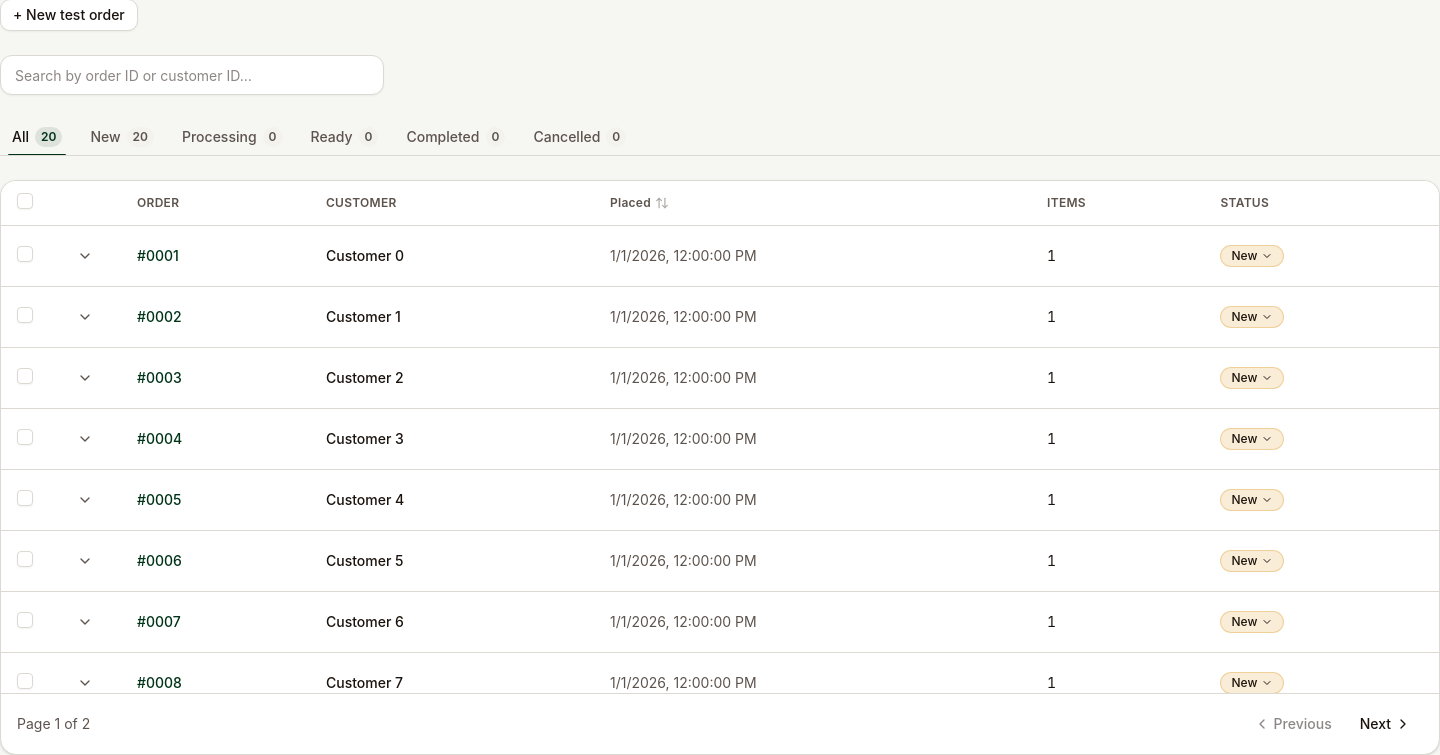
Test: OrdersPage › shows pagination controls only once the filtered set exceeds one page
(page scrolled)
Check: the text "Customer 0" is shown, box top-left (310, 225), bottom-right (594, 286)
Check: the text "Page 1 of 2" is shown, box top-left (17, 714), bottom-right (90, 734)
Click the button with aria-label "Go to next page".
click(1385, 724)  # box top-left (1348, 706), bottom-right (1423, 742)
(page scrolled)
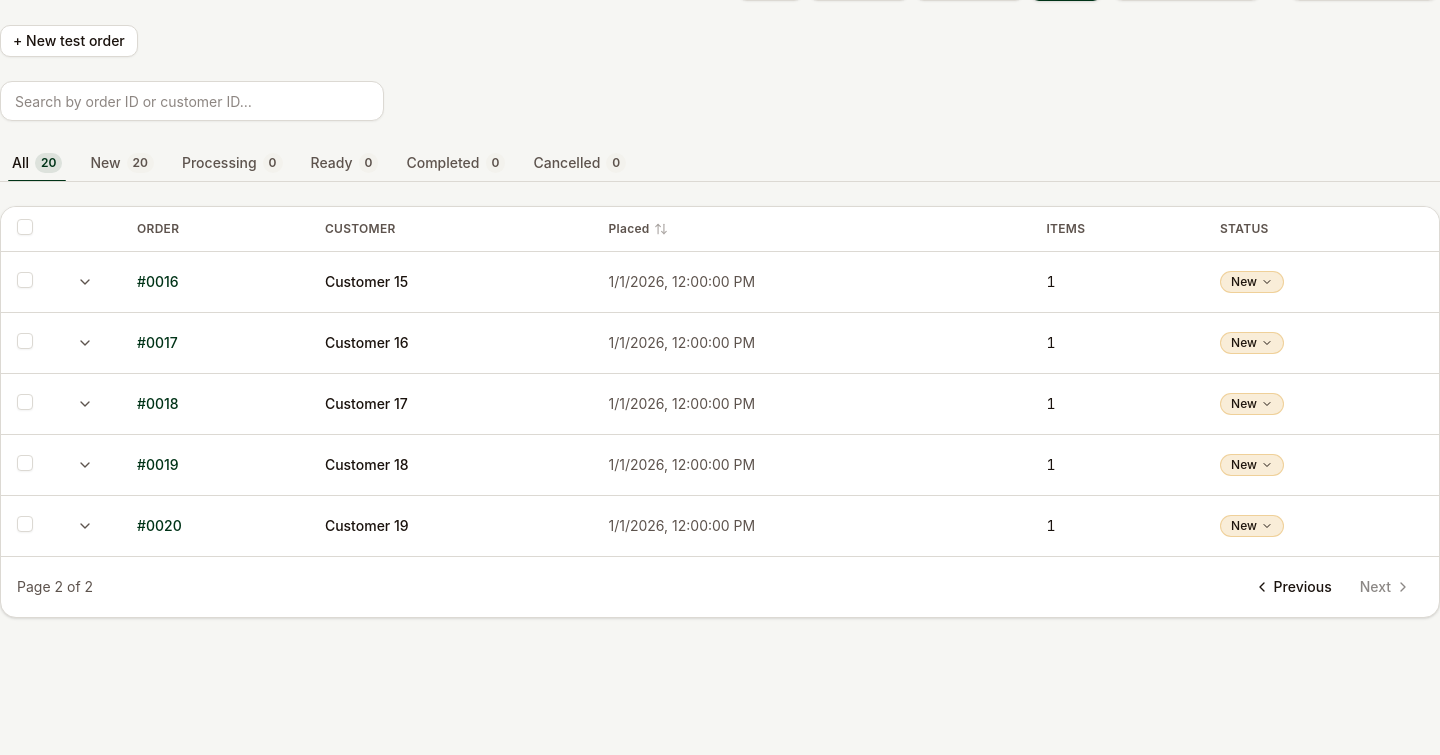
Check: the text "Customer 15" is shown, box top-left (309, 251), bottom-right (592, 312)
Check: the text "Customer 0" is gone
